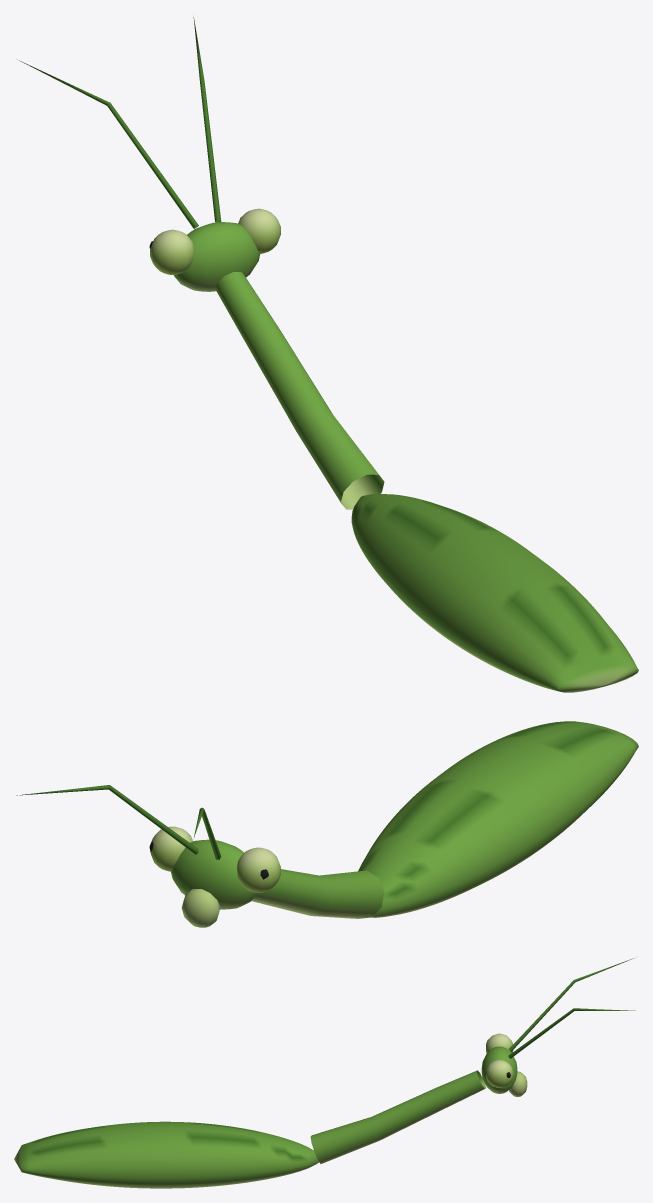
File: Mantis.fbx
3 views of the same model, one above another, from view 1: azimuth 30°, elevation 25°; view 2: azimuth 150°, elevation 25°; view 3: azimuth 270°, elevation 25° (orthographic). The views are drawn at different scales.
Parts seen in each view (by area): view 1: Mantis; view 2: Mantis; view 3: Mantis.
Boxes of the visible parts, box(x1,y1,x2,y2) form: Mantis: box(17, 17, 638, 692); Mantis: box(16, 721, 638, 927); Mantis: box(14, 958, 635, 1188).
Size of the model in its own units: 0.5 by 0.847 by 2.42.
